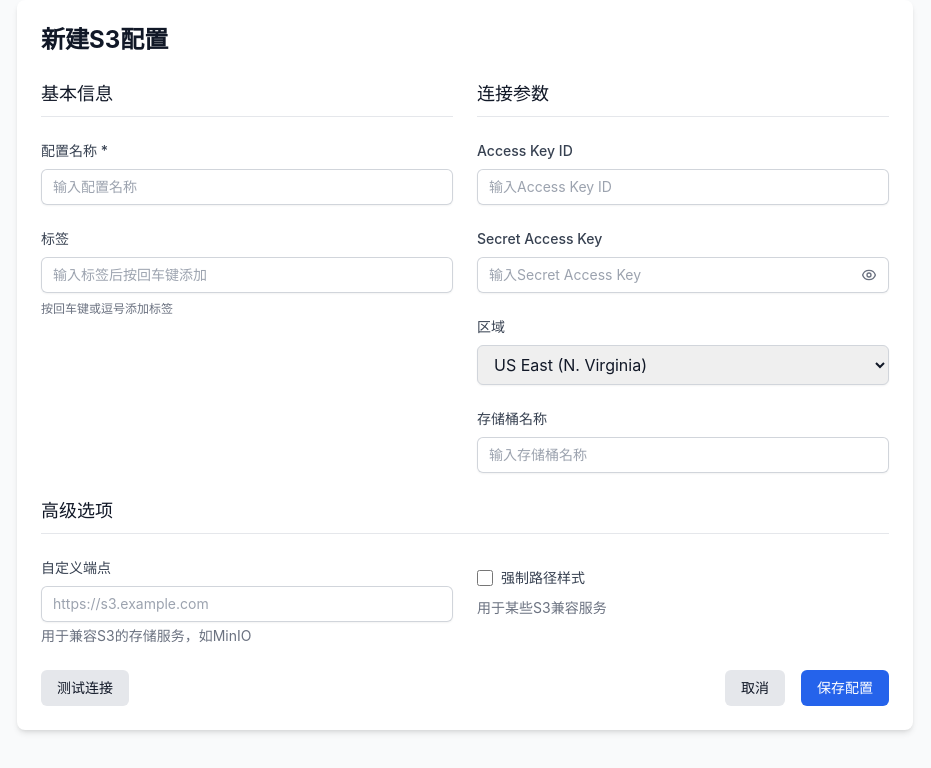
Test: ConfigForm › Connection Testing › should handle connection test failure
Fill form with valid data
Step 1. Type "Test Config" into the field labelled "配置名称 *" → (247, 187), box [41,169,453,205]
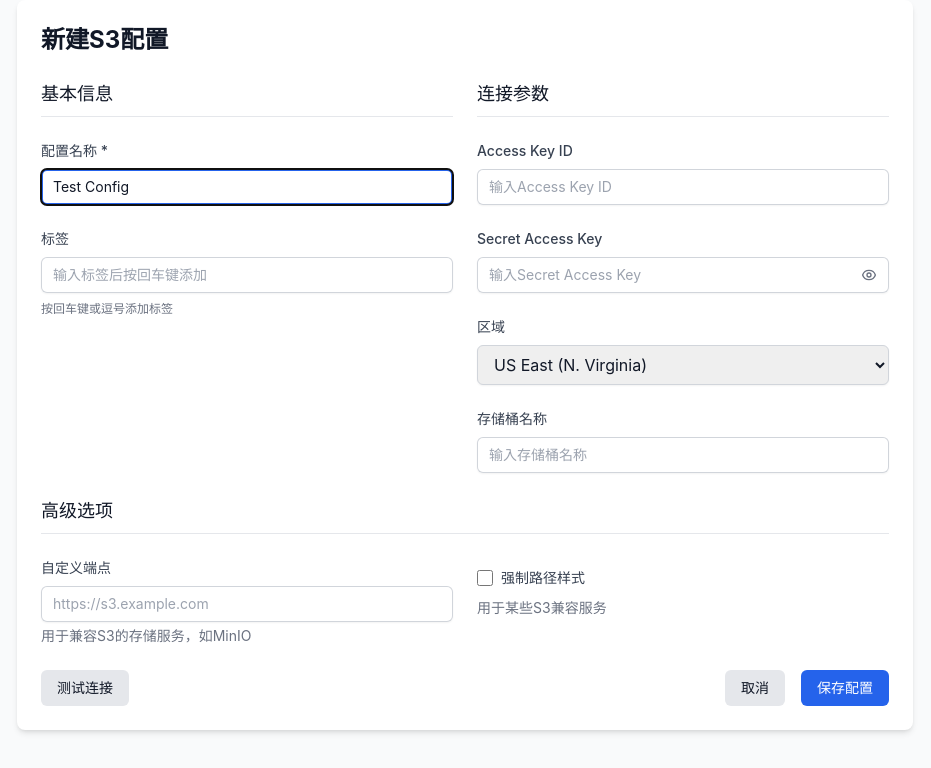
Step 2. Type "AKIAIOSFODNN7EXAMPLE" into the field labelled "Access Key ID" → (683, 187), box [477,169,889,205]
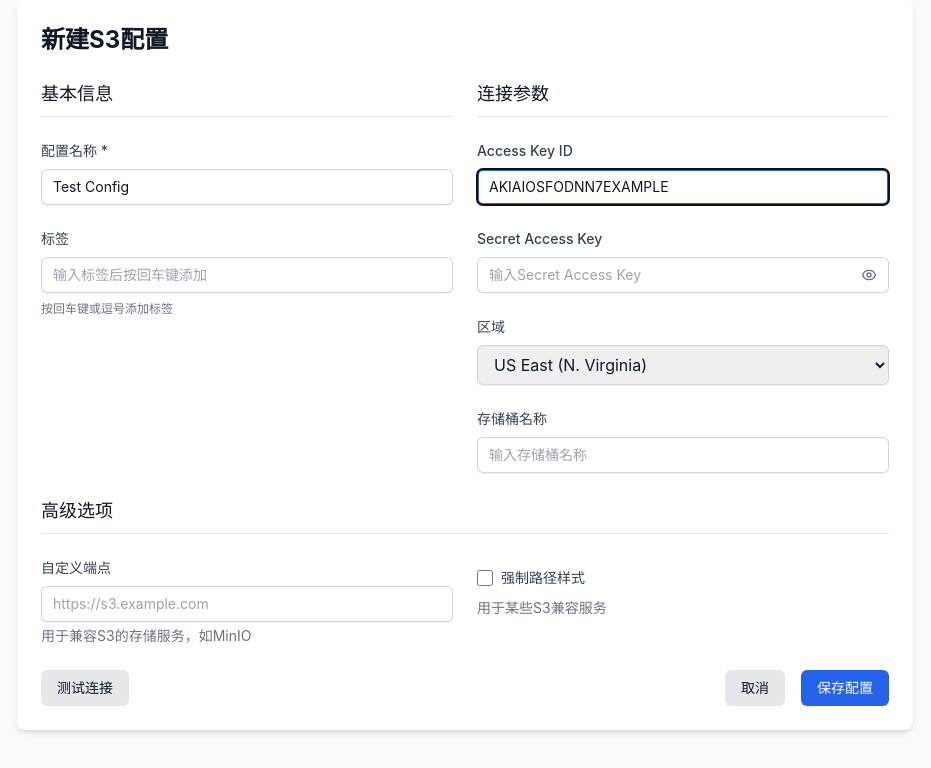
Step 3. Type "wJalrXUtnFEMI/K7MDENG/bPxRfiCYEXAMPLEKEY" into the password field labelled "Secret Access Key" → (683, 275), box [477,257,889,293]
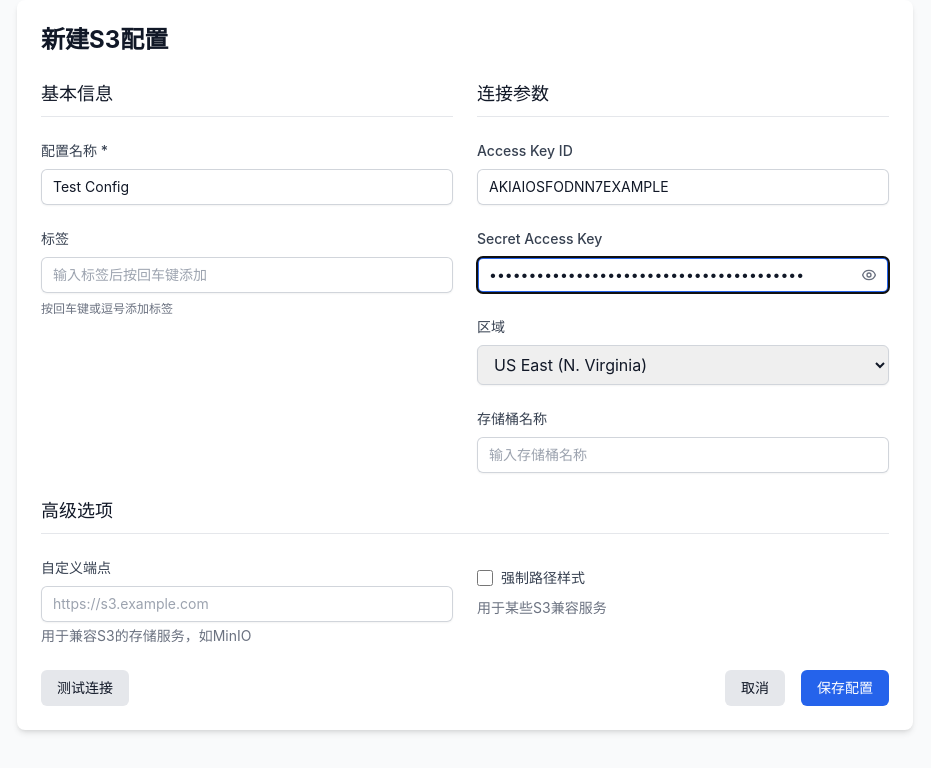
Step 4. Type "test-bucket" into the field labelled "存储桶名称" → (683, 455), box [477,437,889,473]
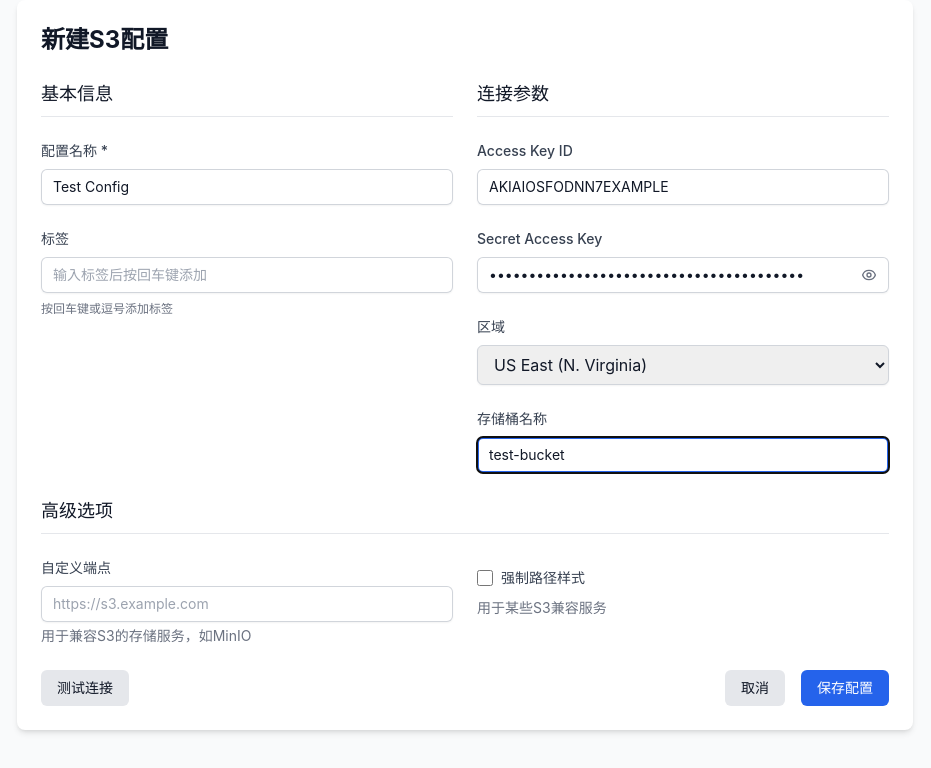
Step 5. Click the button "测试连接" → click(85, 688), box [41,670,129,706]
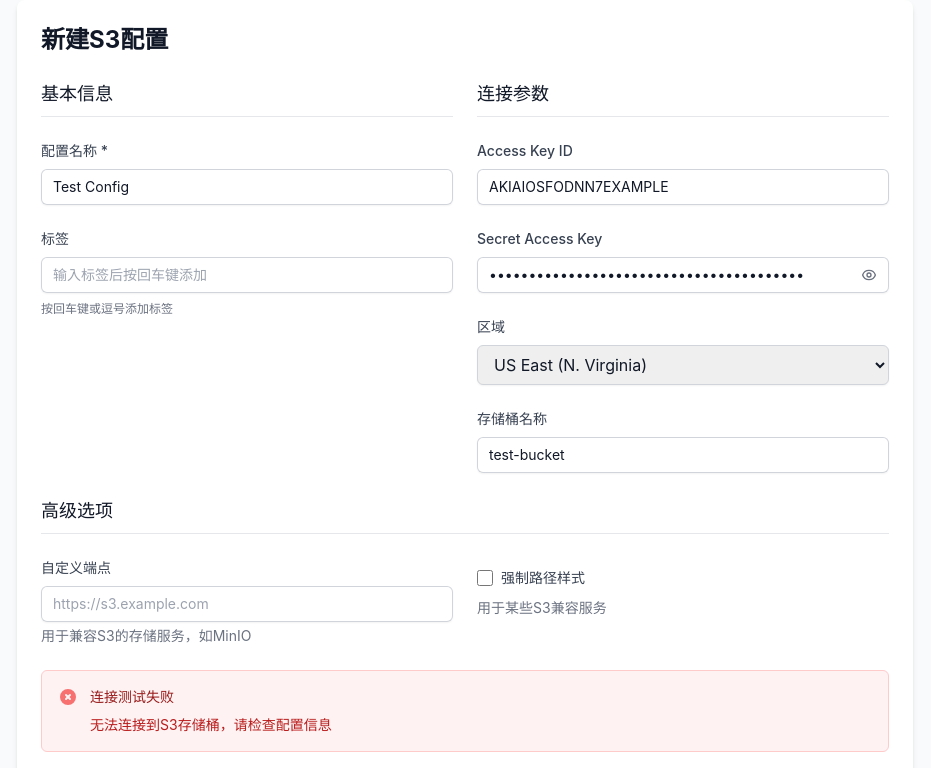
expect the heading "连接测试失败" is shown: met, box [90,688,174,705]
expect the text "无法连接到S3存储桶，请检查配置信息" is shown: met, box [90,715,332,735]
